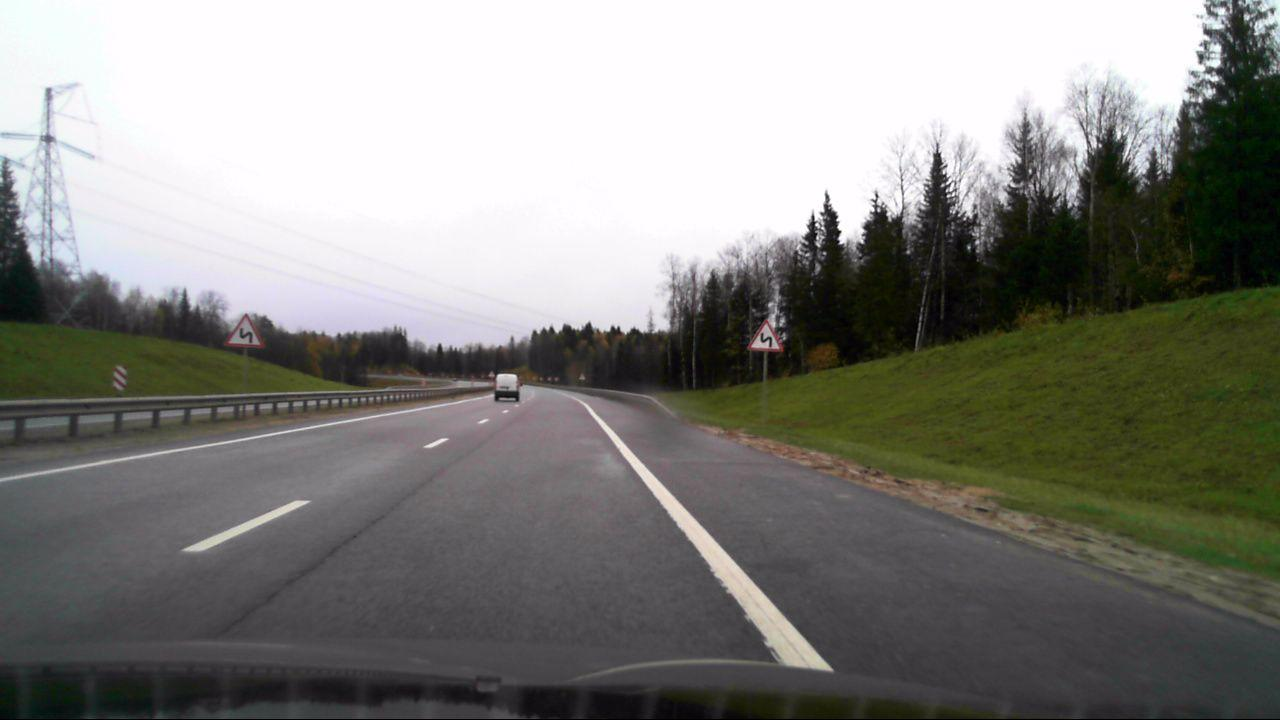1_12_2: (747, 315, 784, 353), (225, 313, 262, 348)
